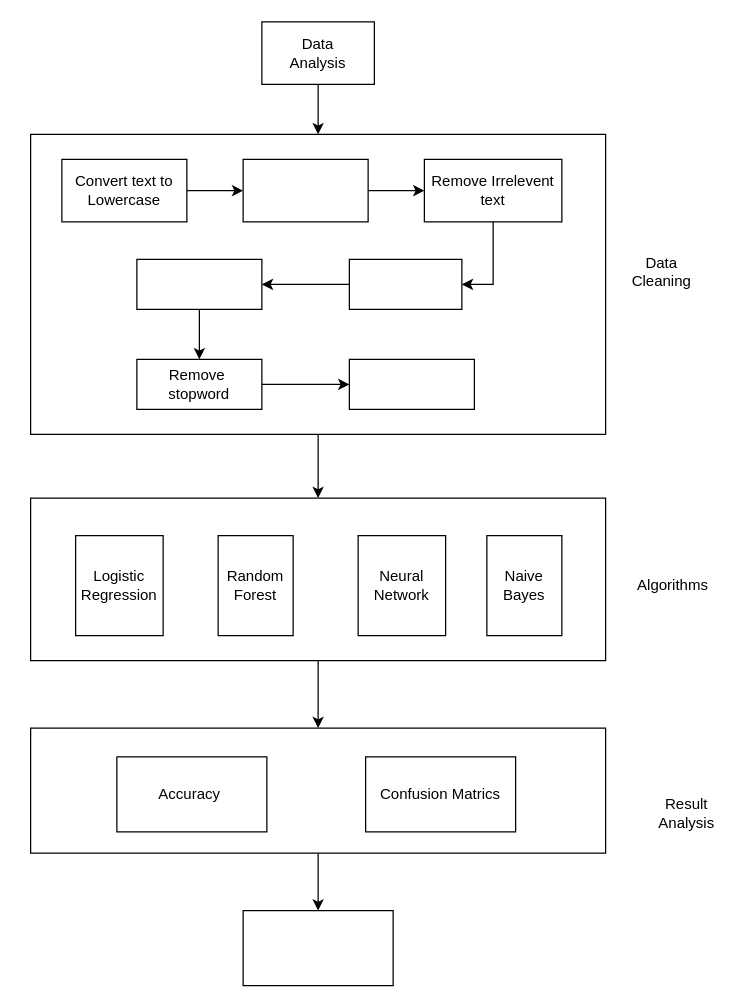
Some shapes in this 746 by 1008 pixel diagram are drawn without their labels. Here are the shapes that lost their labels. From the top down, the centre of each, then its label:
At point (305, 190): "Remove Numeric Characters".
At point (199, 283): "Remove Punctuation".
At point (405, 283): "Tokenization".
At point (411, 383): "Stemming".
At point (317, 947): "Decision".
